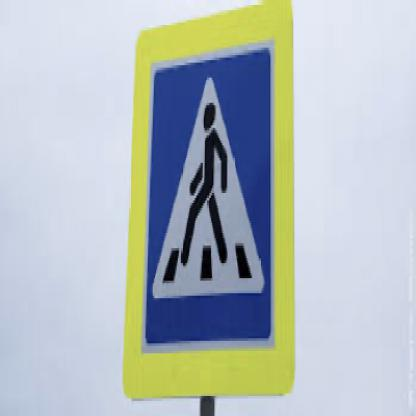crosswalk: (142, 40, 274, 353)
